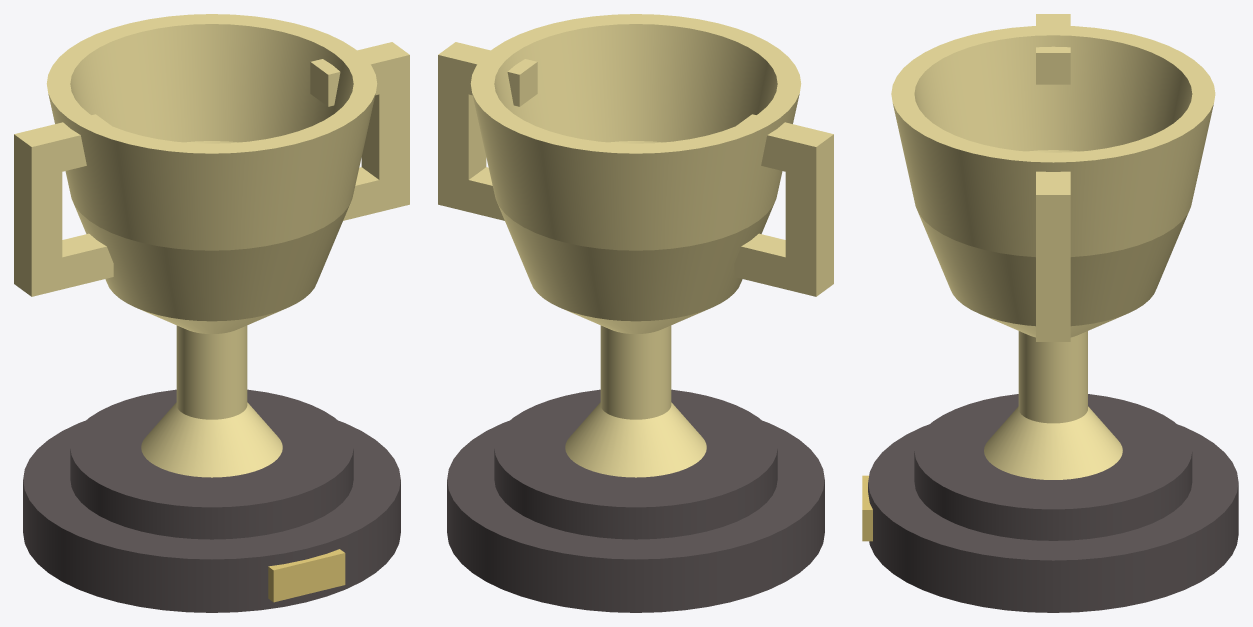
File: trophy.glb
3 renders of one model, left to right at view 1: azimuth 30°, elevation 25°; view 2: azimuth 150°, elevation 25°; view 3: azimuth 270°, elevation 25°, orthographic.
Parts seen in each view (by area): view 1: trophy; view 2: trophy; view 3: trophy.
Part boxes in pixels (bbox=[...]): trophy: bbox=[14, 14, 409, 612]; trophy: bbox=[438, 14, 833, 612]; trophy: bbox=[862, 14, 1238, 612].
Size of the model in its own units: 0.37 by 0.42 by 0.325.
